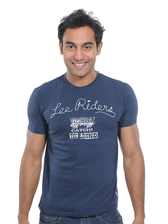clothoes: (26, 72, 139, 215)
